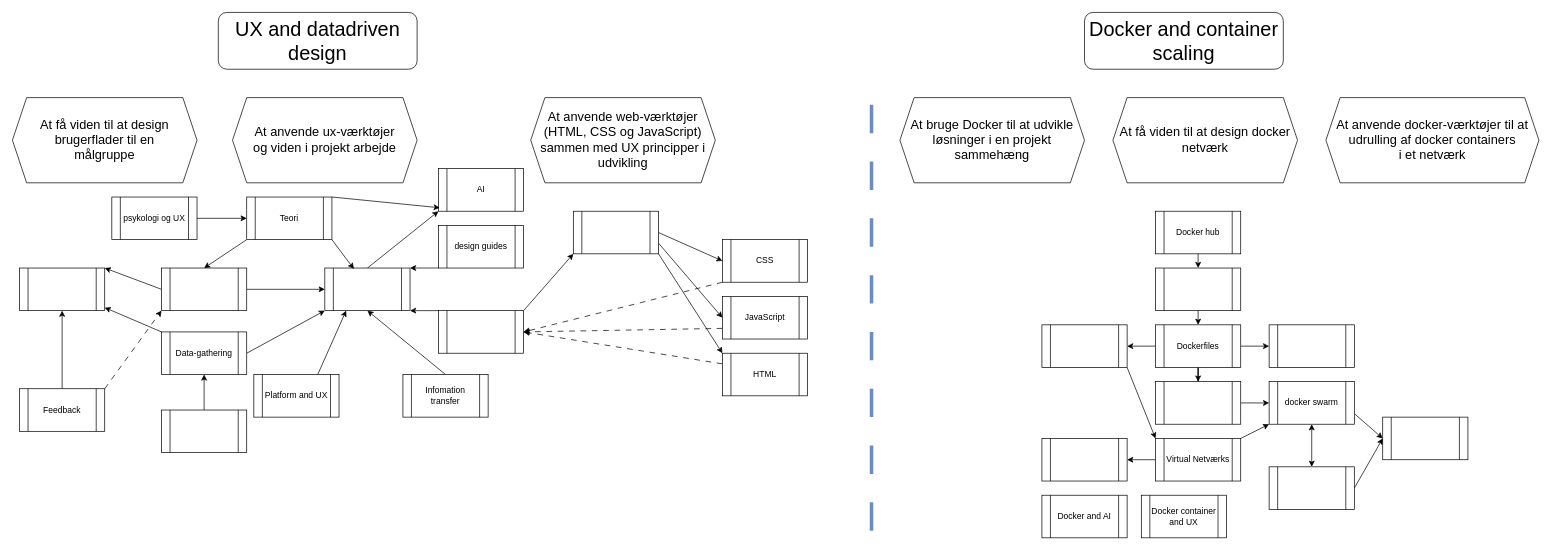
Image size: 1551x550. Some labels were removed from this diagram. The centre of each missing label's shape, as x and y in pixels:
"Databases in containers" goes at (1084,345).
"deploying webapps" goes at (1311,345).
"docker compose" goes at (1198,402).
"Figma" goes at (481,331).
"implementing Automation" goes at (1425,438).
"interface design" goes at (367,289).
"kubernettes" goes at (1311,487).
"Network Design" goes at (1084,459).
"purpose" goes at (204,289).
"Usability TEST" goes at (62,289).
"usertracking" goes at (204,431).
"using Images" goes at (1198,289).
"Webside opbygning" goes at (616,232).
